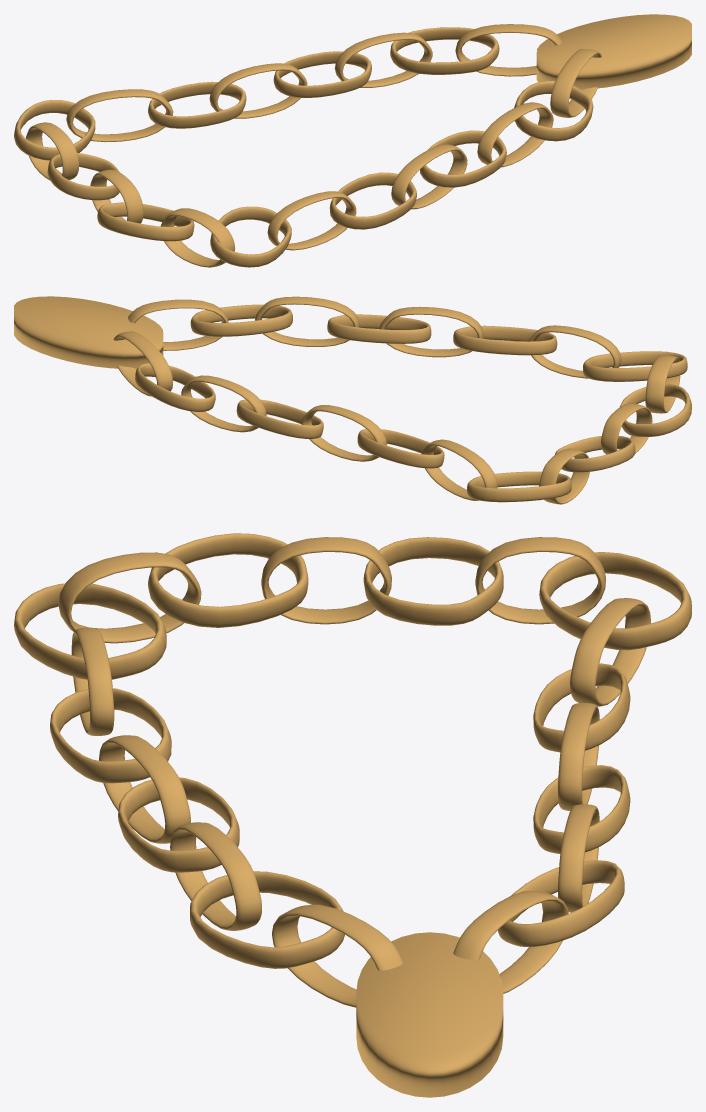
Rendered from necklace.fbx.
The picture shows the model from 3 angles, top to bottom: view 1: azimuth 30°, elevation 25°; view 2: azimuth 150°, elevation 25°; view 3: azimuth 270°, elevation 25°; orthographic projection. The views are drawn at different scales.
Visible parts, largest first — view 1: Cylinder, Cube.018, Cube.003, Cube.005, Cube.014, Cube.010, Cube.009, Cube.011, Cube.015, Cube.017, Cube.007, Cube.013 (+10 smaller); view 2: Cylinder, Cube.017, Cube.010, Cube.013, Cube.007, Cube.009, Cube.014, Cube.005, Cube.018, Cube.001, Cube.015, Cube.011 (+10 smaller); view 3: Cylinder, Cube.003, Cube.007, Cube.017, Cube.009, Cube.001, Cube.015, Cube.019, Cube.018, Cube.011, Cube.008, Cube.010 (+10 smaller).
Boxes of the visible parts, x1=… form: Cylinder: x1=536, y1=14, x2=691, y2=89; Cube.018: x1=390, y1=27, x2=499, y2=74; Cube.003: x1=97, y1=202, x2=194, y2=241; Cube.005: x1=148, y1=81, x2=246, y2=128; Cube.014: x1=273, y1=51, x2=371, y2=97; Cube.010: x1=329, y1=172, x2=416, y2=229; Cube.009: x1=210, y1=206, x2=291, y2=267; Cube.011: x1=391, y1=144, x2=467, y2=209; Cube.015: x1=477, y1=102, x2=553, y2=167; Cube.017: x1=514, y1=81, x2=593, y2=141; Cube.007: x1=14, y1=100, x2=95, y2=160; Cube.013: x1=420, y1=130, x2=506, y2=187; Cylinder: x1=14, y1=296, x2=163, y2=368; Cube.017: x1=190, y1=304, x2=292, y2=336; Cube.010: x1=453, y1=325, x2=557, y2=355; Cube.013: x1=327, y1=314, x2=431, y2=343; Cube.007: x1=467, y1=471, x2=571, y2=502; Cube.009: x1=583, y1=351, x2=687, y2=381; Cube.014: x1=236, y1=399, x2=323, y2=438; Cube.005: x1=357, y1=429, x2=444, y2=468; Cube.018: x1=135, y1=363, x2=215, y2=411; Cube.001: x1=555, y1=436, x2=635, y2=472; Cube.015: x1=255, y1=296, x2=359, y2=346; Cube.011: x1=379, y1=306, x2=483, y2=357; Cylinder: x1=356, y1=932, x2=503, y2=1097; Cube.003: x1=148, y1=533, x2=308, y2=627; Cube.007: x1=539, y1=552, x2=691, y2=650; Cube.017: x1=190, y1=871, x2=344, y2=968; Cube.009: x1=14, y1=583, x2=166, y2=679; Cube.001: x1=363, y1=537, x2=503, y2=625; Cube.015: x1=170, y1=822, x2=261, y2=930; Cube.019: x1=272, y1=904, x2=403, y2=1007; Cube.018: x1=497, y1=860, x2=624, y2=946; Cube.011: x1=99, y1=735, x2=190, y2=843; Cube.008: x1=570, y1=598, x2=650, y2=706; Cube.010: x1=50, y1=688, x2=171, y2=783.
Size of the model in its own units: 582 by 41.22 by 321.
